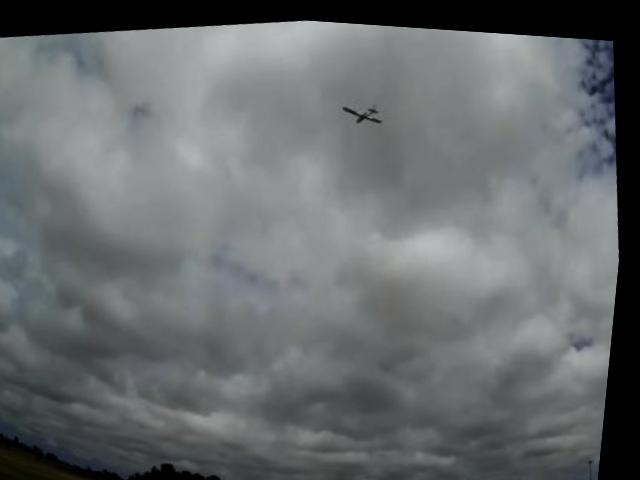uav: (333, 82, 394, 134)
